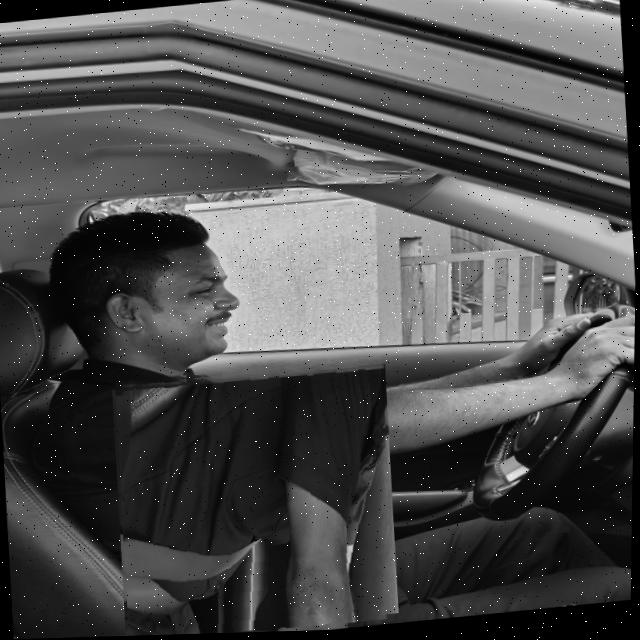seatbelt: (112, 356, 399, 637)
